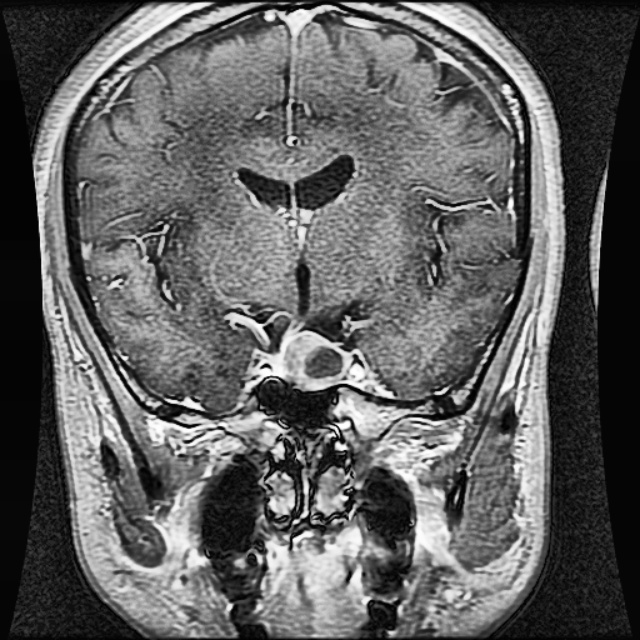Pituitary: (279, 332, 350, 388)
